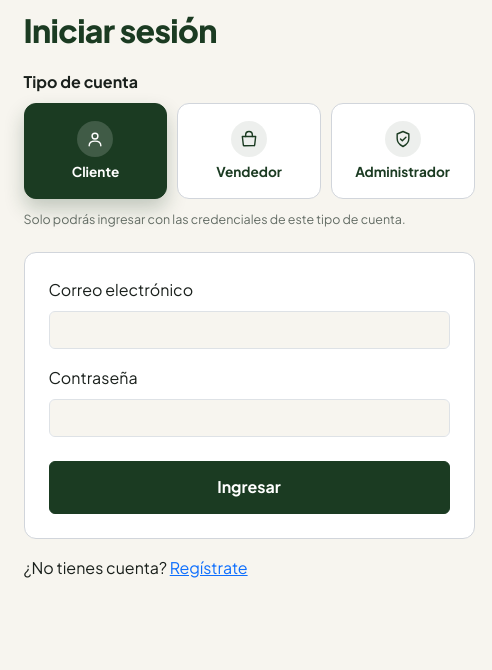
Test: Login › muestra el mensaje del backend y no navega si falla
This screenshot has width=492, height=670.
Type "cliente@huerto.cl" into the field labelled "Correo electrónico" at x=249, y=330, box [48,311,450,349]
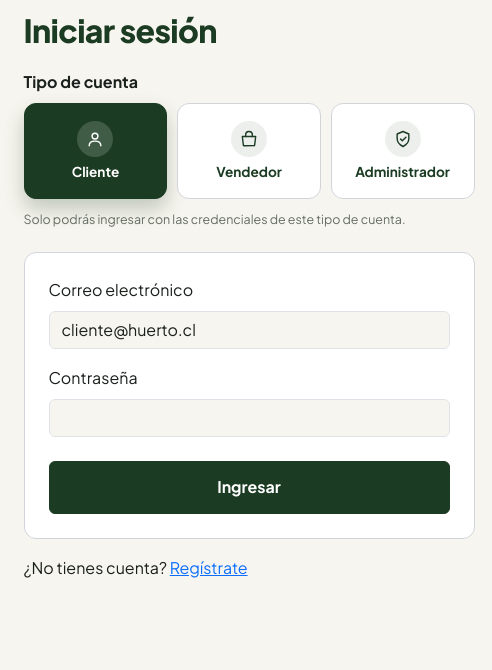
Type "mala" into the password field labelled "Contraseña" at x=249, y=418, box [48,399,450,437]
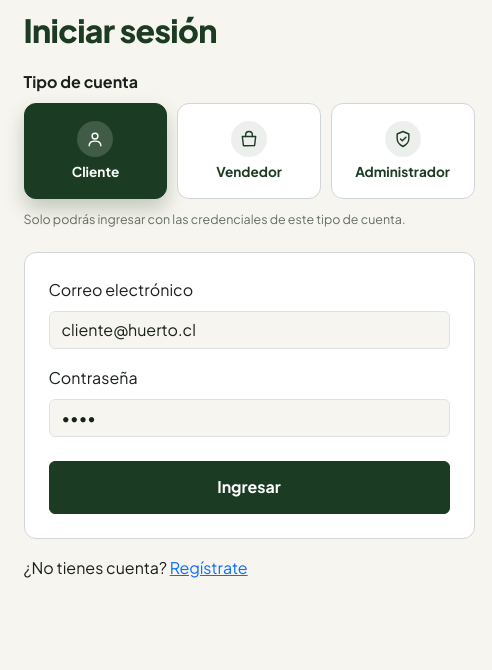
Click the button "Ingresar" at x=249, y=487, box [48,461,450,514]
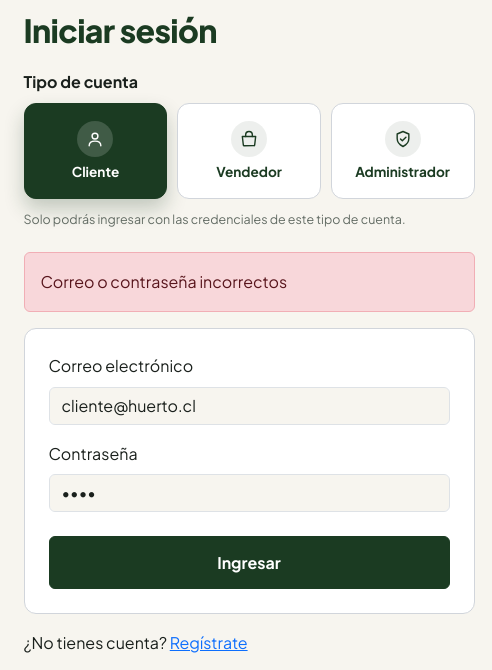
Expected: the message "Correo o contraseña incorrectos" is shown, [24,252,474,312]
Expected: the message reads "Correo o contraseña incorrectos", [40,272,287,292]
